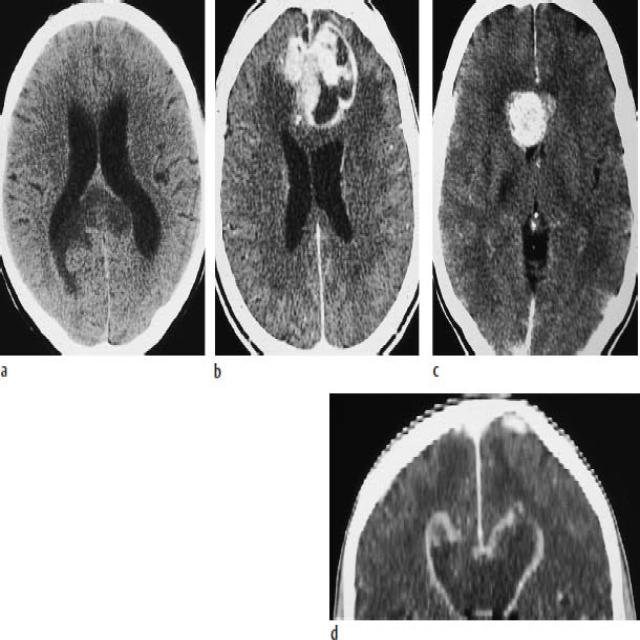Tumor: (422, 435, 546, 628), (286, 24, 356, 124), (507, 87, 546, 148)
